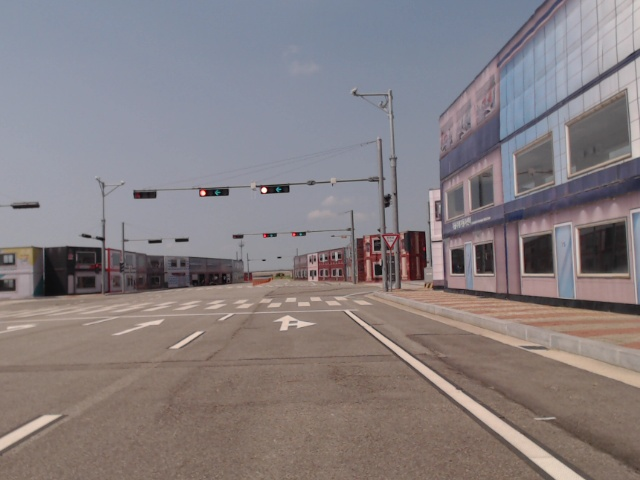left_green_4: (261, 186, 289, 193), (199, 190, 229, 196), (263, 234, 277, 238), (292, 232, 306, 236)
